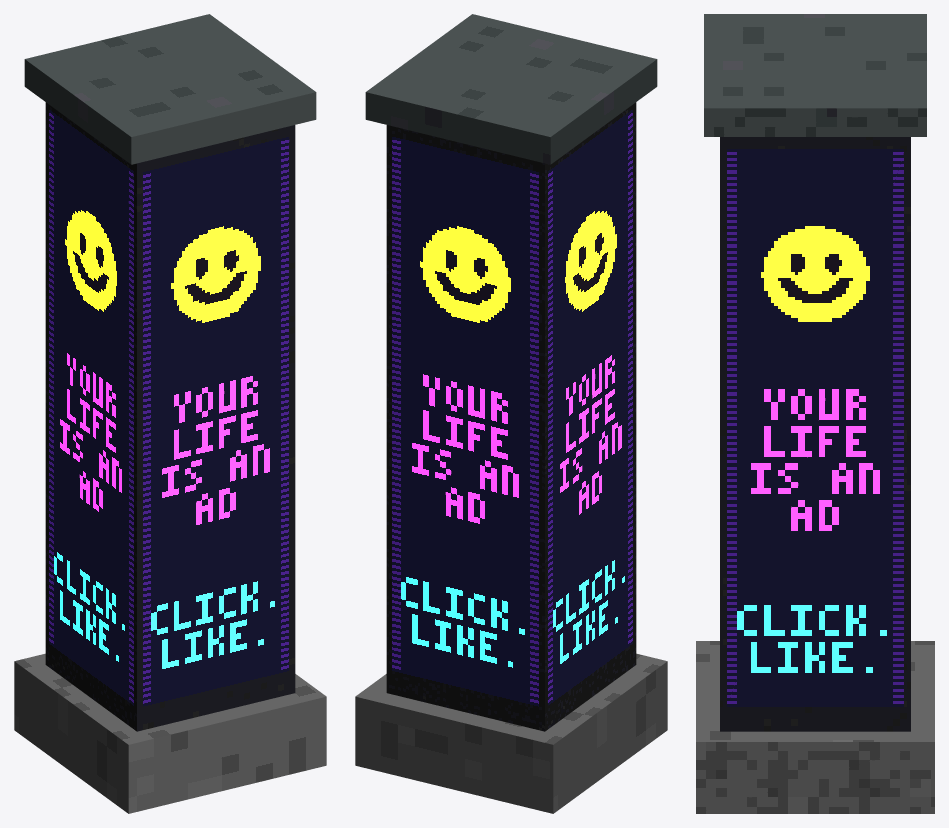
The model's file is ad_pillar_bots.glb.
3 renders of one model, left to right at view 1: azimuth 30°, elevation 25°; view 2: azimuth 150°, elevation 25°; view 3: azimuth 270°, elevation 25°, orthographic. The views are drawn at different scales.
Parts seen in each view (by area): view 1: prop; view 2: prop; view 3: prop.
Part boxes in pixels (box(x1,y1,x2,y2)): prop: box(14, 14, 326, 813); prop: box(355, 14, 667, 813); prop: box(696, 14, 934, 813).
Size of the model in its own units: 0.9 by 2.92 by 0.9.
Materials: 1 (1 with a texture image).
